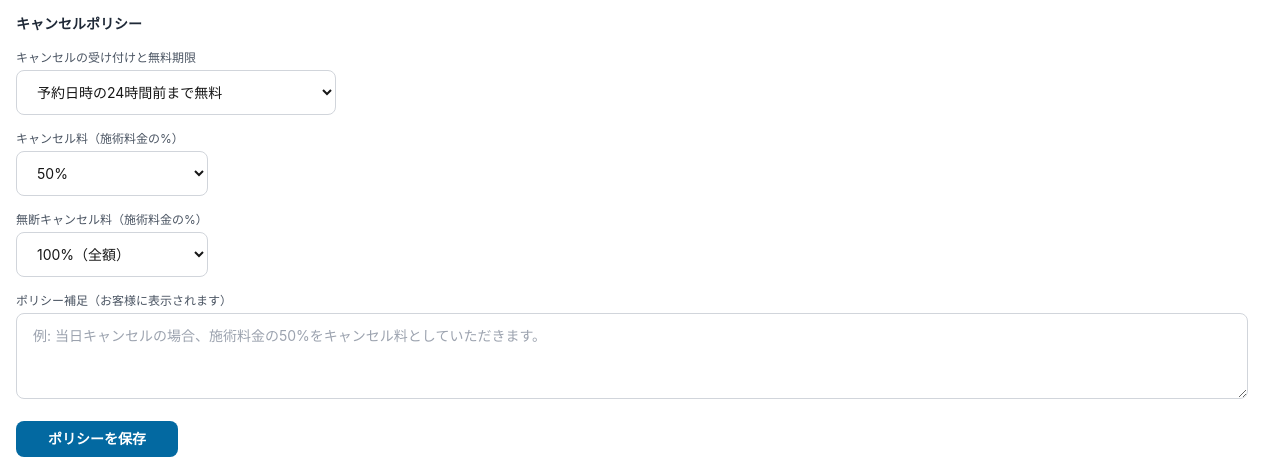
upsert 成功 → 「保存しました」を表示
This screenshot has width=1265, height=474.
Click the button "ポリシーを保存" at (97, 439), box x1=16 y1=421 x2=178 y2=457
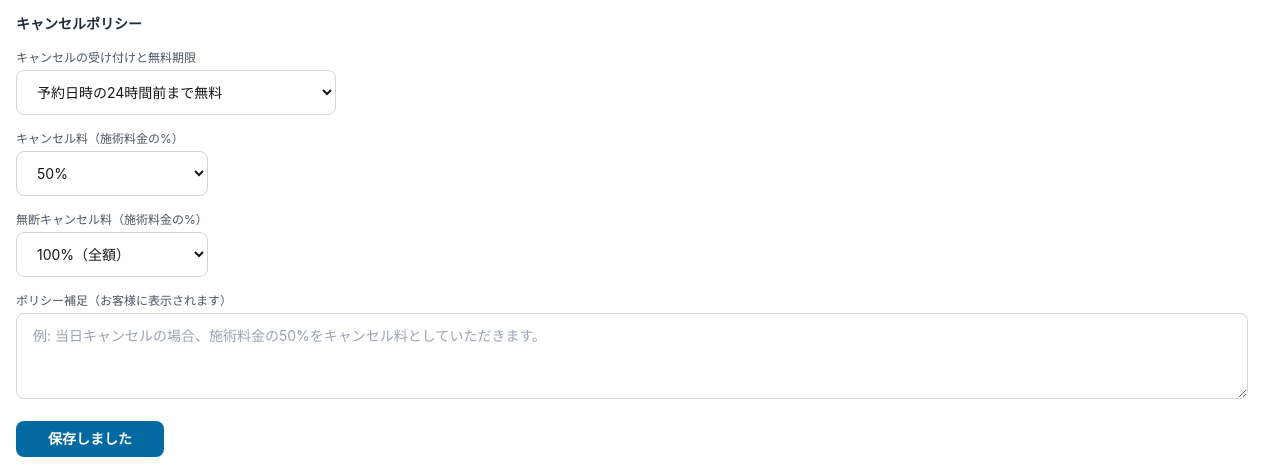
Now the button "保存しました" is shown, box x1=16 y1=421 x2=164 y2=457
